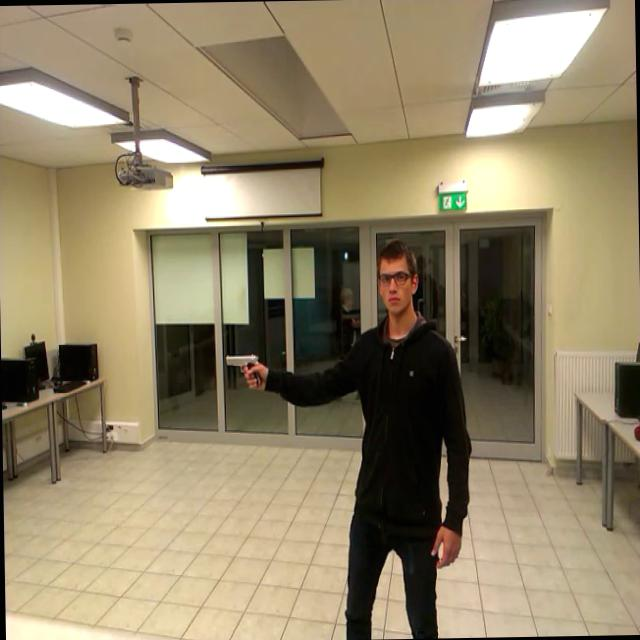handgun: (215, 347, 268, 396)
